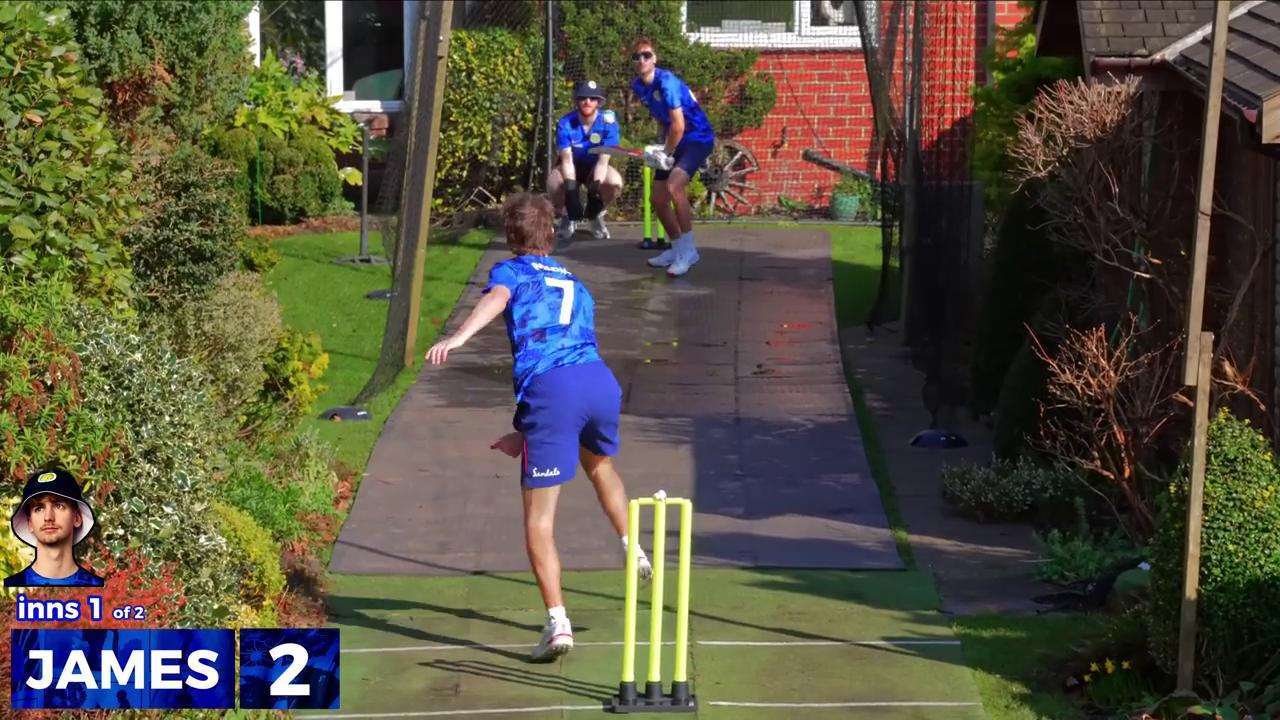ball: (601, 108, 618, 126)
